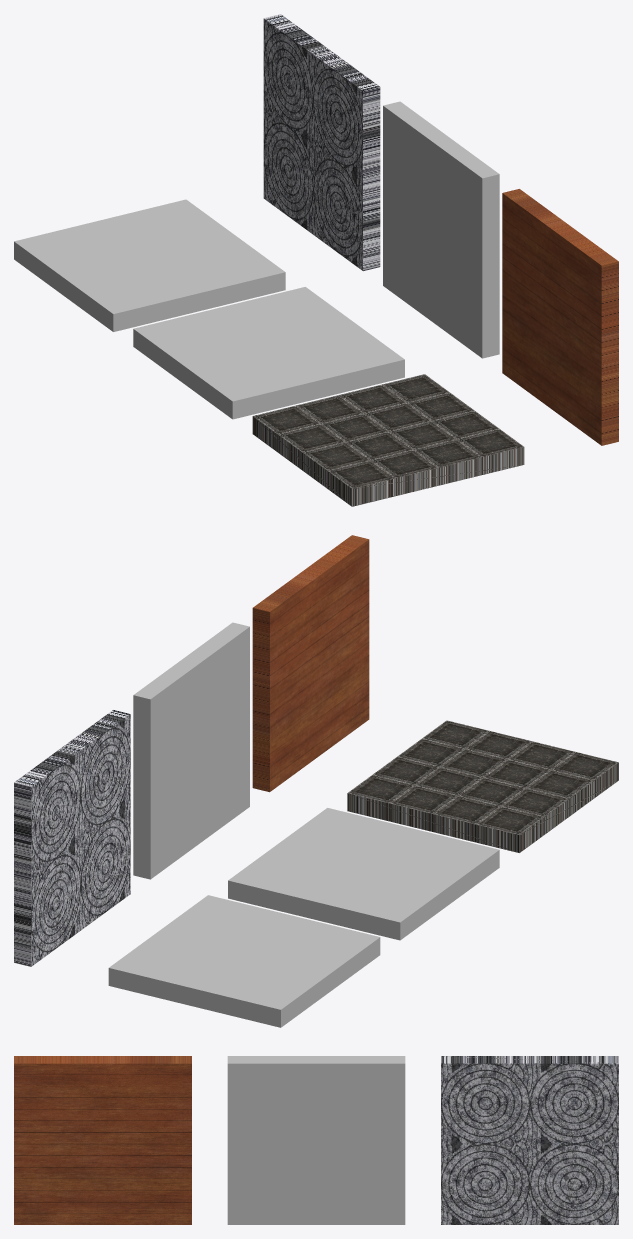
File: FPS.fbx
The picture shows the model from 3 angles, top to bottom: view 1: azimuth 30°, elevation 25°; view 2: azimuth 150°, elevation 25°; view 3: azimuth 270°, elevation 25°; orthographic projection. The views are drawn at different scales.
Parts seen in each view (by area): view 1: Cube.010, Cube.008, Cube.001, Cube, Cube.003, Cube.002; view 2: Cube.001, Cube.008, Cube.010, Cube.003, Cube, Cube.002; view 3: Cube.008, Cube.001, Cube.010.
Part boxes in pixels (x1=…): Cube.010: x1=263, y1=14, x2=380, y2=271; Cube.008: x1=383, y1=101, x2=499, y2=358; Cube.001: x1=502, y1=189, x2=618, y2=445; Cube: x1=252, y1=374, x2=524, y2=506; Cube.003: x1=14, y1=199, x2=285, y2=331; Cube.002: x1=133, y1=287, x2=404, y2=419; Cube.001: x1=252, y1=535, x2=369, y2=792; Cube.008: x1=133, y1=622, x2=249, y2=879; Cube.010: x1=14, y1=710, x2=130, y2=966; Cube.003: x1=108, y1=895, x2=380, y2=1027; Cube: x1=347, y1=720, x2=618, y2=852; Cube.002: x1=228, y1=808, x2=499, y2=940; Cube.008: x1=227, y1=1056, x2=405, y2=1224; Cube.001: x1=14, y1=1056, x2=191, y2=1224; Cube.010: x1=441, y1=1056, x2=618, y2=1224.
Bounding box in the file's own units: 7.75 × 17 × 5.
